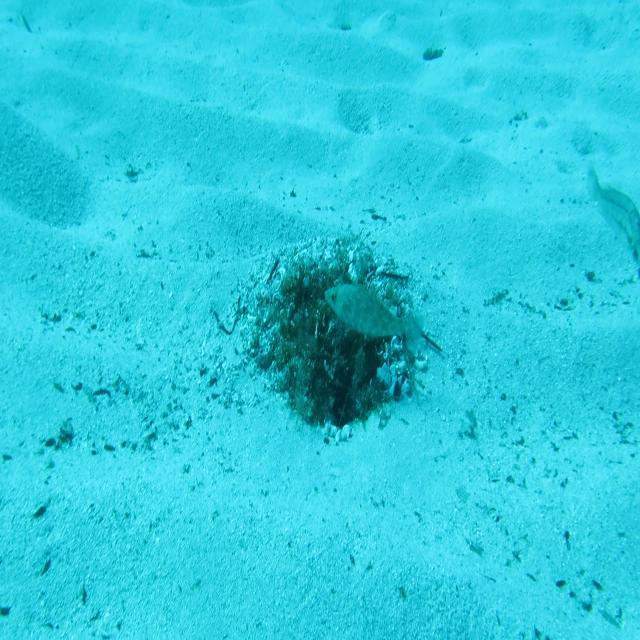BN: (323, 271, 426, 360)
core_nest: (304, 276, 342, 310)
female: (582, 155, 640, 283)
nest: (226, 212, 438, 452)
vegetation: (420, 45, 444, 65)
